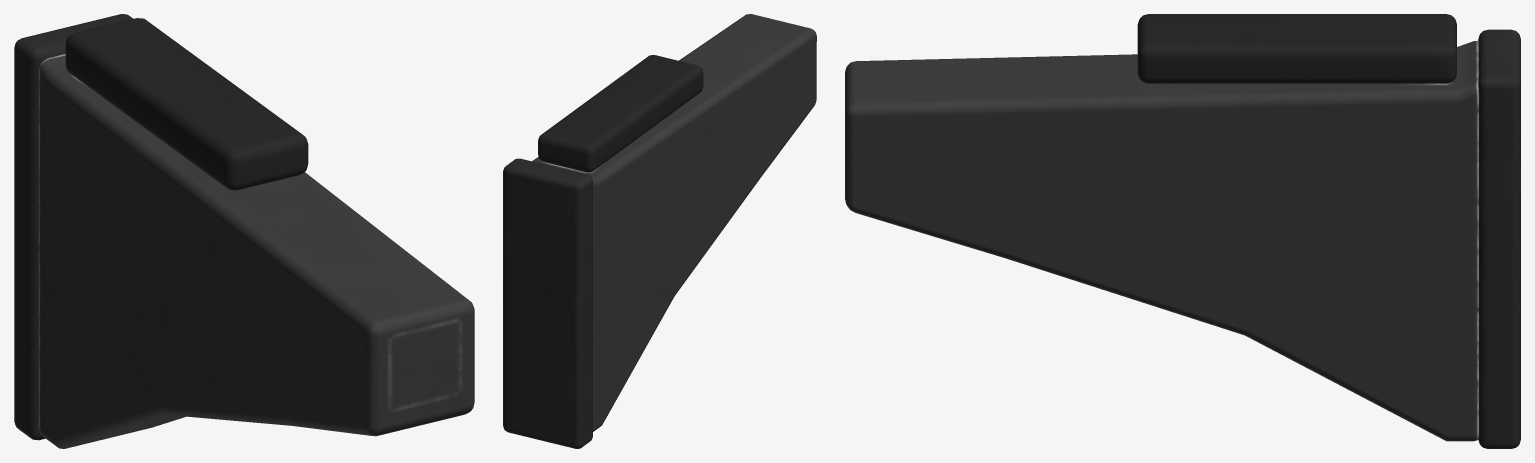
File: stock_precision.glb
3 renders of one model, left to right at view 1: azimuth 30°, elevation 25°; view 2: azimuth 150°, elevation 25°; view 3: azimuth 270°, elevation 25°, orthographic. The views are drawn at different scales.
Visible parts, largest first — view 1: body; view 2: body; view 3: body.
Part boxes in pixels (x1,y1,x2,y2): body: [14, 14, 474, 448]; body: [503, 14, 816, 448]; body: [845, 14, 1520, 448].
Bounding box in the file's own units: 0.048 × 0.164 × 0.254.
Materials: 1 (1 with a texture image).
